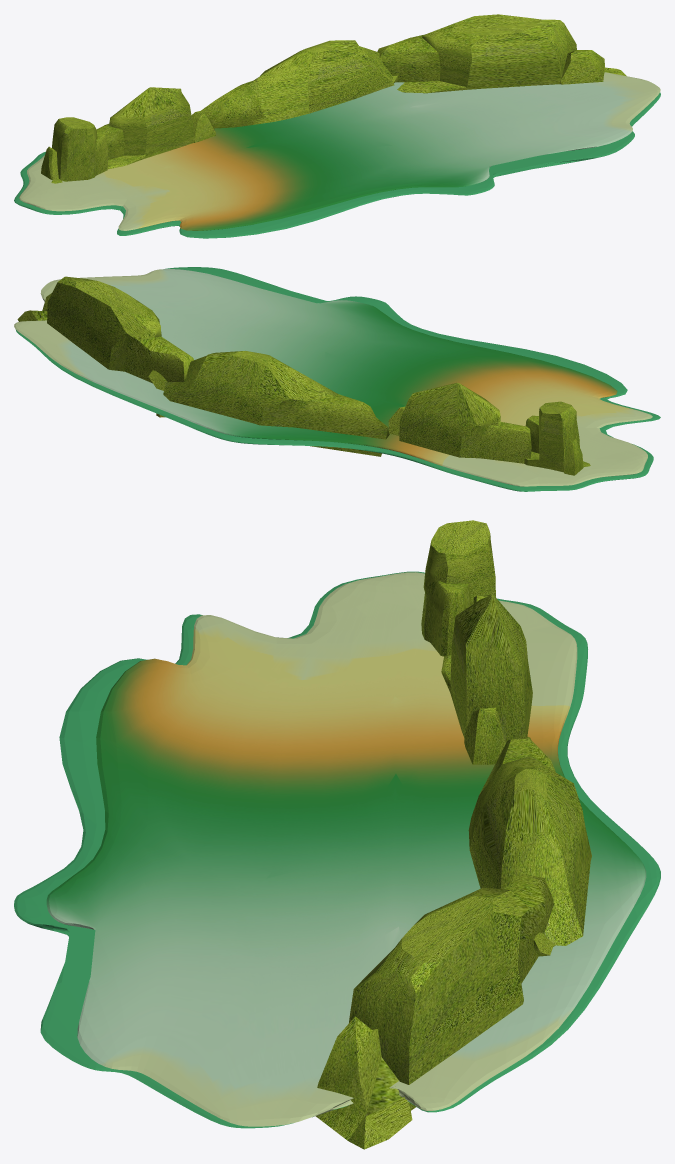
The model's file is main.glb.
The picture shows the model from 3 angles, top to bottom: view 1: azimuth 30°, elevation 25°; view 2: azimuth 150°, elevation 25°; view 3: azimuth 270°, elevation 25°; orthographic projection. The views are drawn at different scales.
Parts seen in each view (by area): view 1: 平面.003, lp2.011, lp2.013, 平面.001, lp2.006, lp2.004; view 2: 平面.003, lp2.013, lp2.011, lp2.006, 平面.001, lp2.004; view 3: 平面.003, lp2.011, 平面.001, lp2.013, lp2.006, lp2.004.
Part boxes in pixels (x1,y1,x2,y2): 平面.003: (19,72,660,230); lp2.011: (377,14,626,93); lp2.013: (201,40,397,128); 平面.001: (14,92,660,238); lp2.006: (96,87,215,169); lp2.004: (41,117,108,183); 平面.003: (14,269,652,486); lp2.013: (148,351,389,456); lp2.011: (17,276,193,383); lp2.006: (388,382,531,463); 平面.001: (15,267,660,491); lp2.004: (524,401,590,475); 平面.003: (46,572,646,1126); lp2.011: (316,873,553,1149); 平面.001: (14,571,660,1128); lp2.013: (468,736,591,956); lp2.006: (441,595,532,764); lp2.004: (421,520,495,656).
Bounding box in the file's own units: 152 × 18.17 × 74.66.
Materials: 3 (2 with a texture image).
